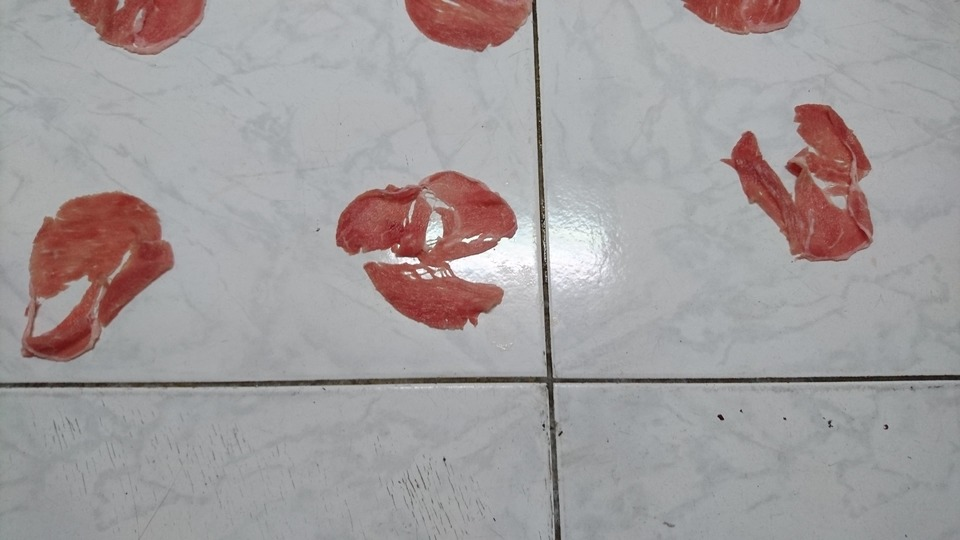restructured meat: (312, 164, 521, 346), (712, 95, 906, 265), (28, 181, 181, 372), (74, 4, 211, 59), (399, 4, 538, 54), (690, 2, 808, 37)
